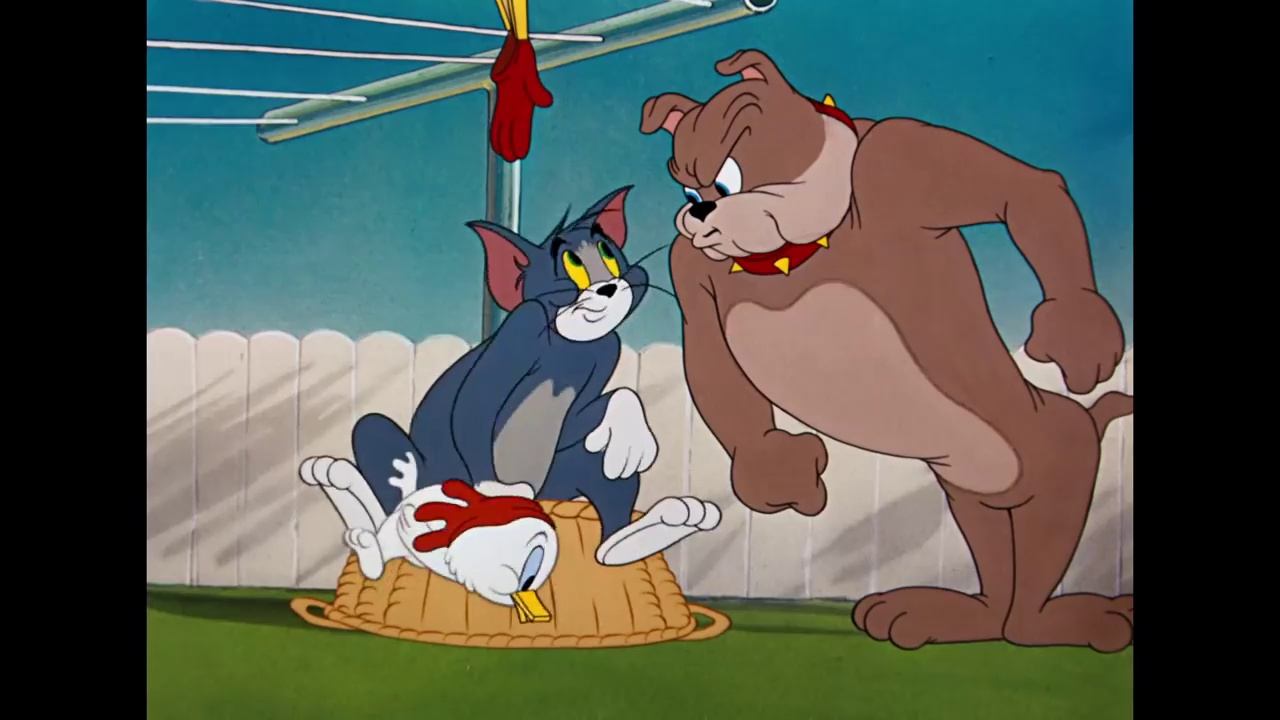spike: (635, 43, 879, 277)
tom: (461, 177, 654, 351)
